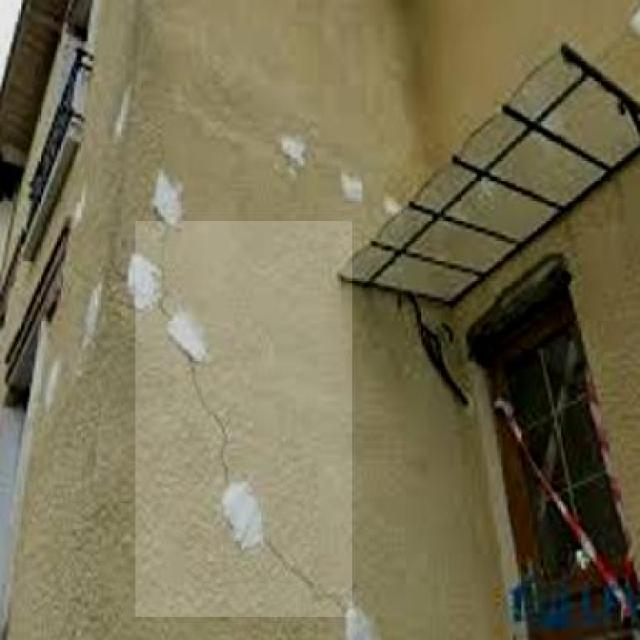Crack: (141, 269, 349, 616)
